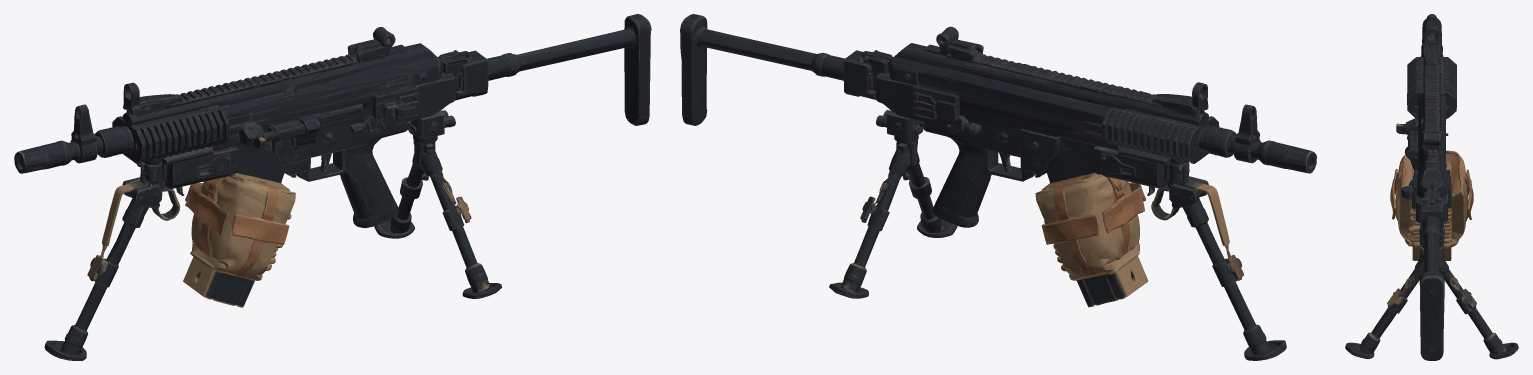
3 renders of one model, left to right at view 1: azimuth 30°, elevation 25°; view 2: azimuth 150°, elevation 25°; view 3: azimuth 270°, elevation 25°, orthographic. The views are drawn at different scales.
Bounding box in the file's own units: 1.9 × 0.749 × 0.5631.
Materials: 1 (1 with a texture image).
